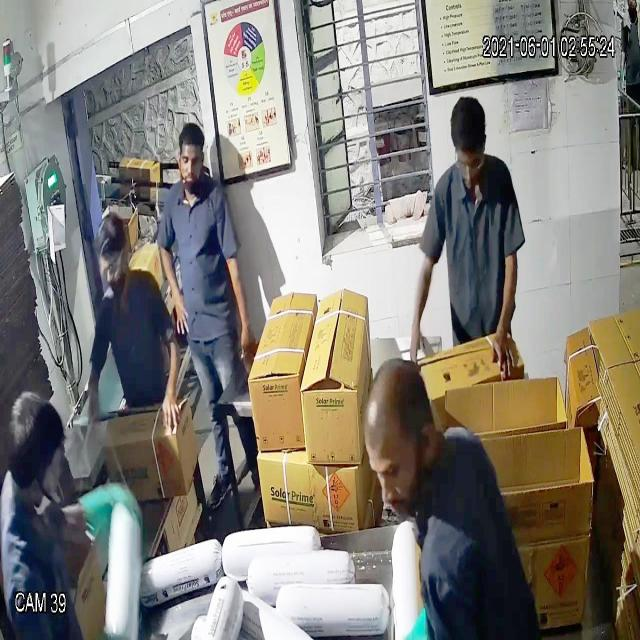glasses: (448, 151, 492, 185), (96, 248, 128, 288)
